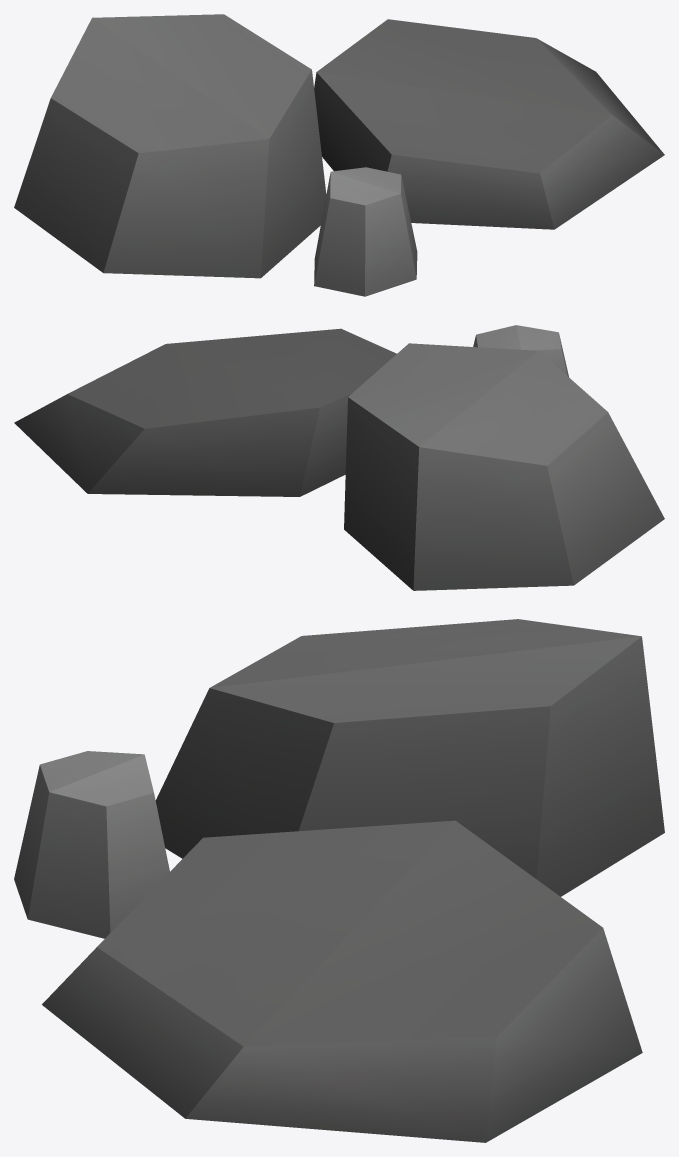
The model's file is Pedras.fbx.
3 views of the same model, one above another, from view 1: azimuth 30°, elevation 25°; view 2: azimuth 150°, elevation 25°; view 3: azimuth 270°, elevation 25° (orthographic). The views are drawn at different scales.
Parts seen in each view (by area): view 1: Pedras; view 2: Pedras; view 3: Pedras.
Part boxes in pixels (<box>): Pedras: <box>14,14,664,296</box>; Pedras: <box>14,325,664,590</box>; Pedras: <box>14,619,664,1142</box>.
Bounding box in the file's own units: 42.64 × 9.97 × 28.95.
